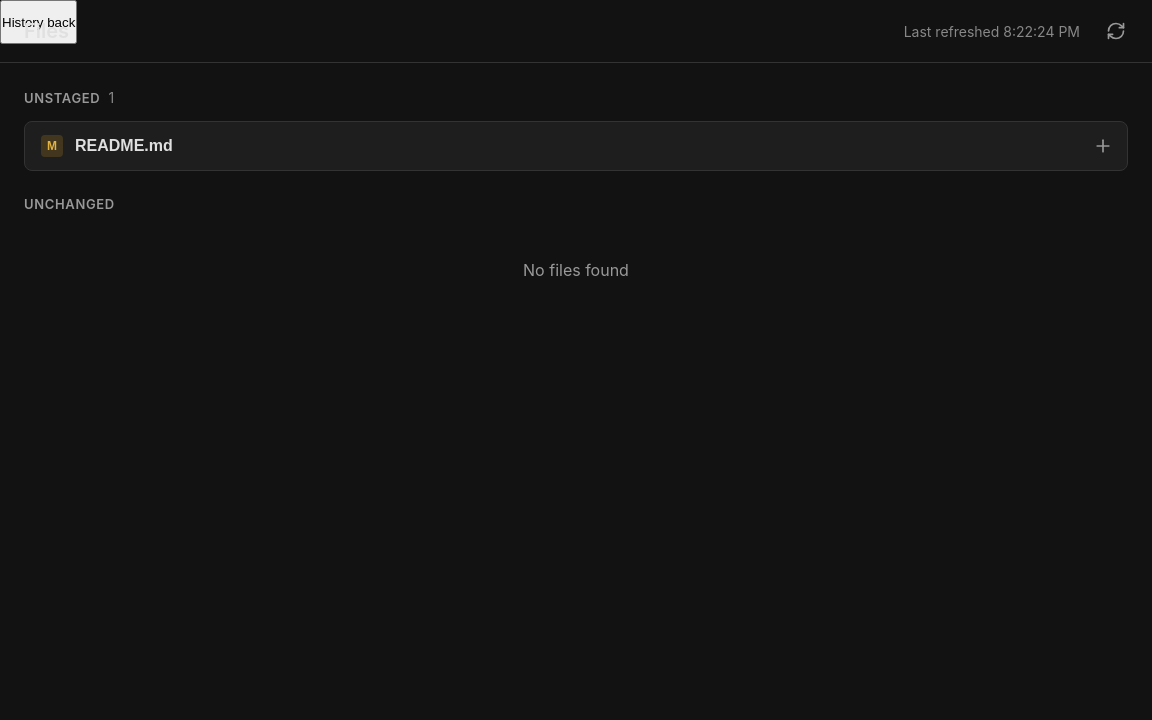
Test case: FilesPage › shows deleted unstaged lines in the editor view
Click the text "README.md" at (124, 145), box left=75, top=136, right=173, bottom=154
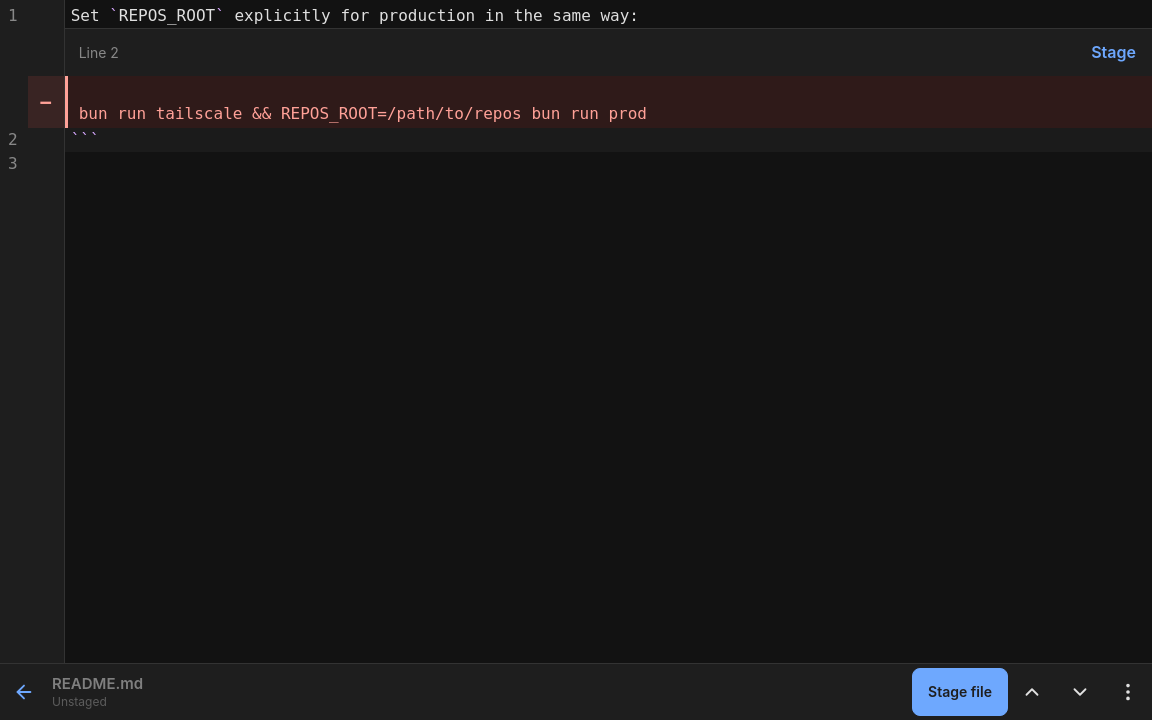
Result: the button "Stage file" is shown at left=912, top=668, right=1008, bottom=716
